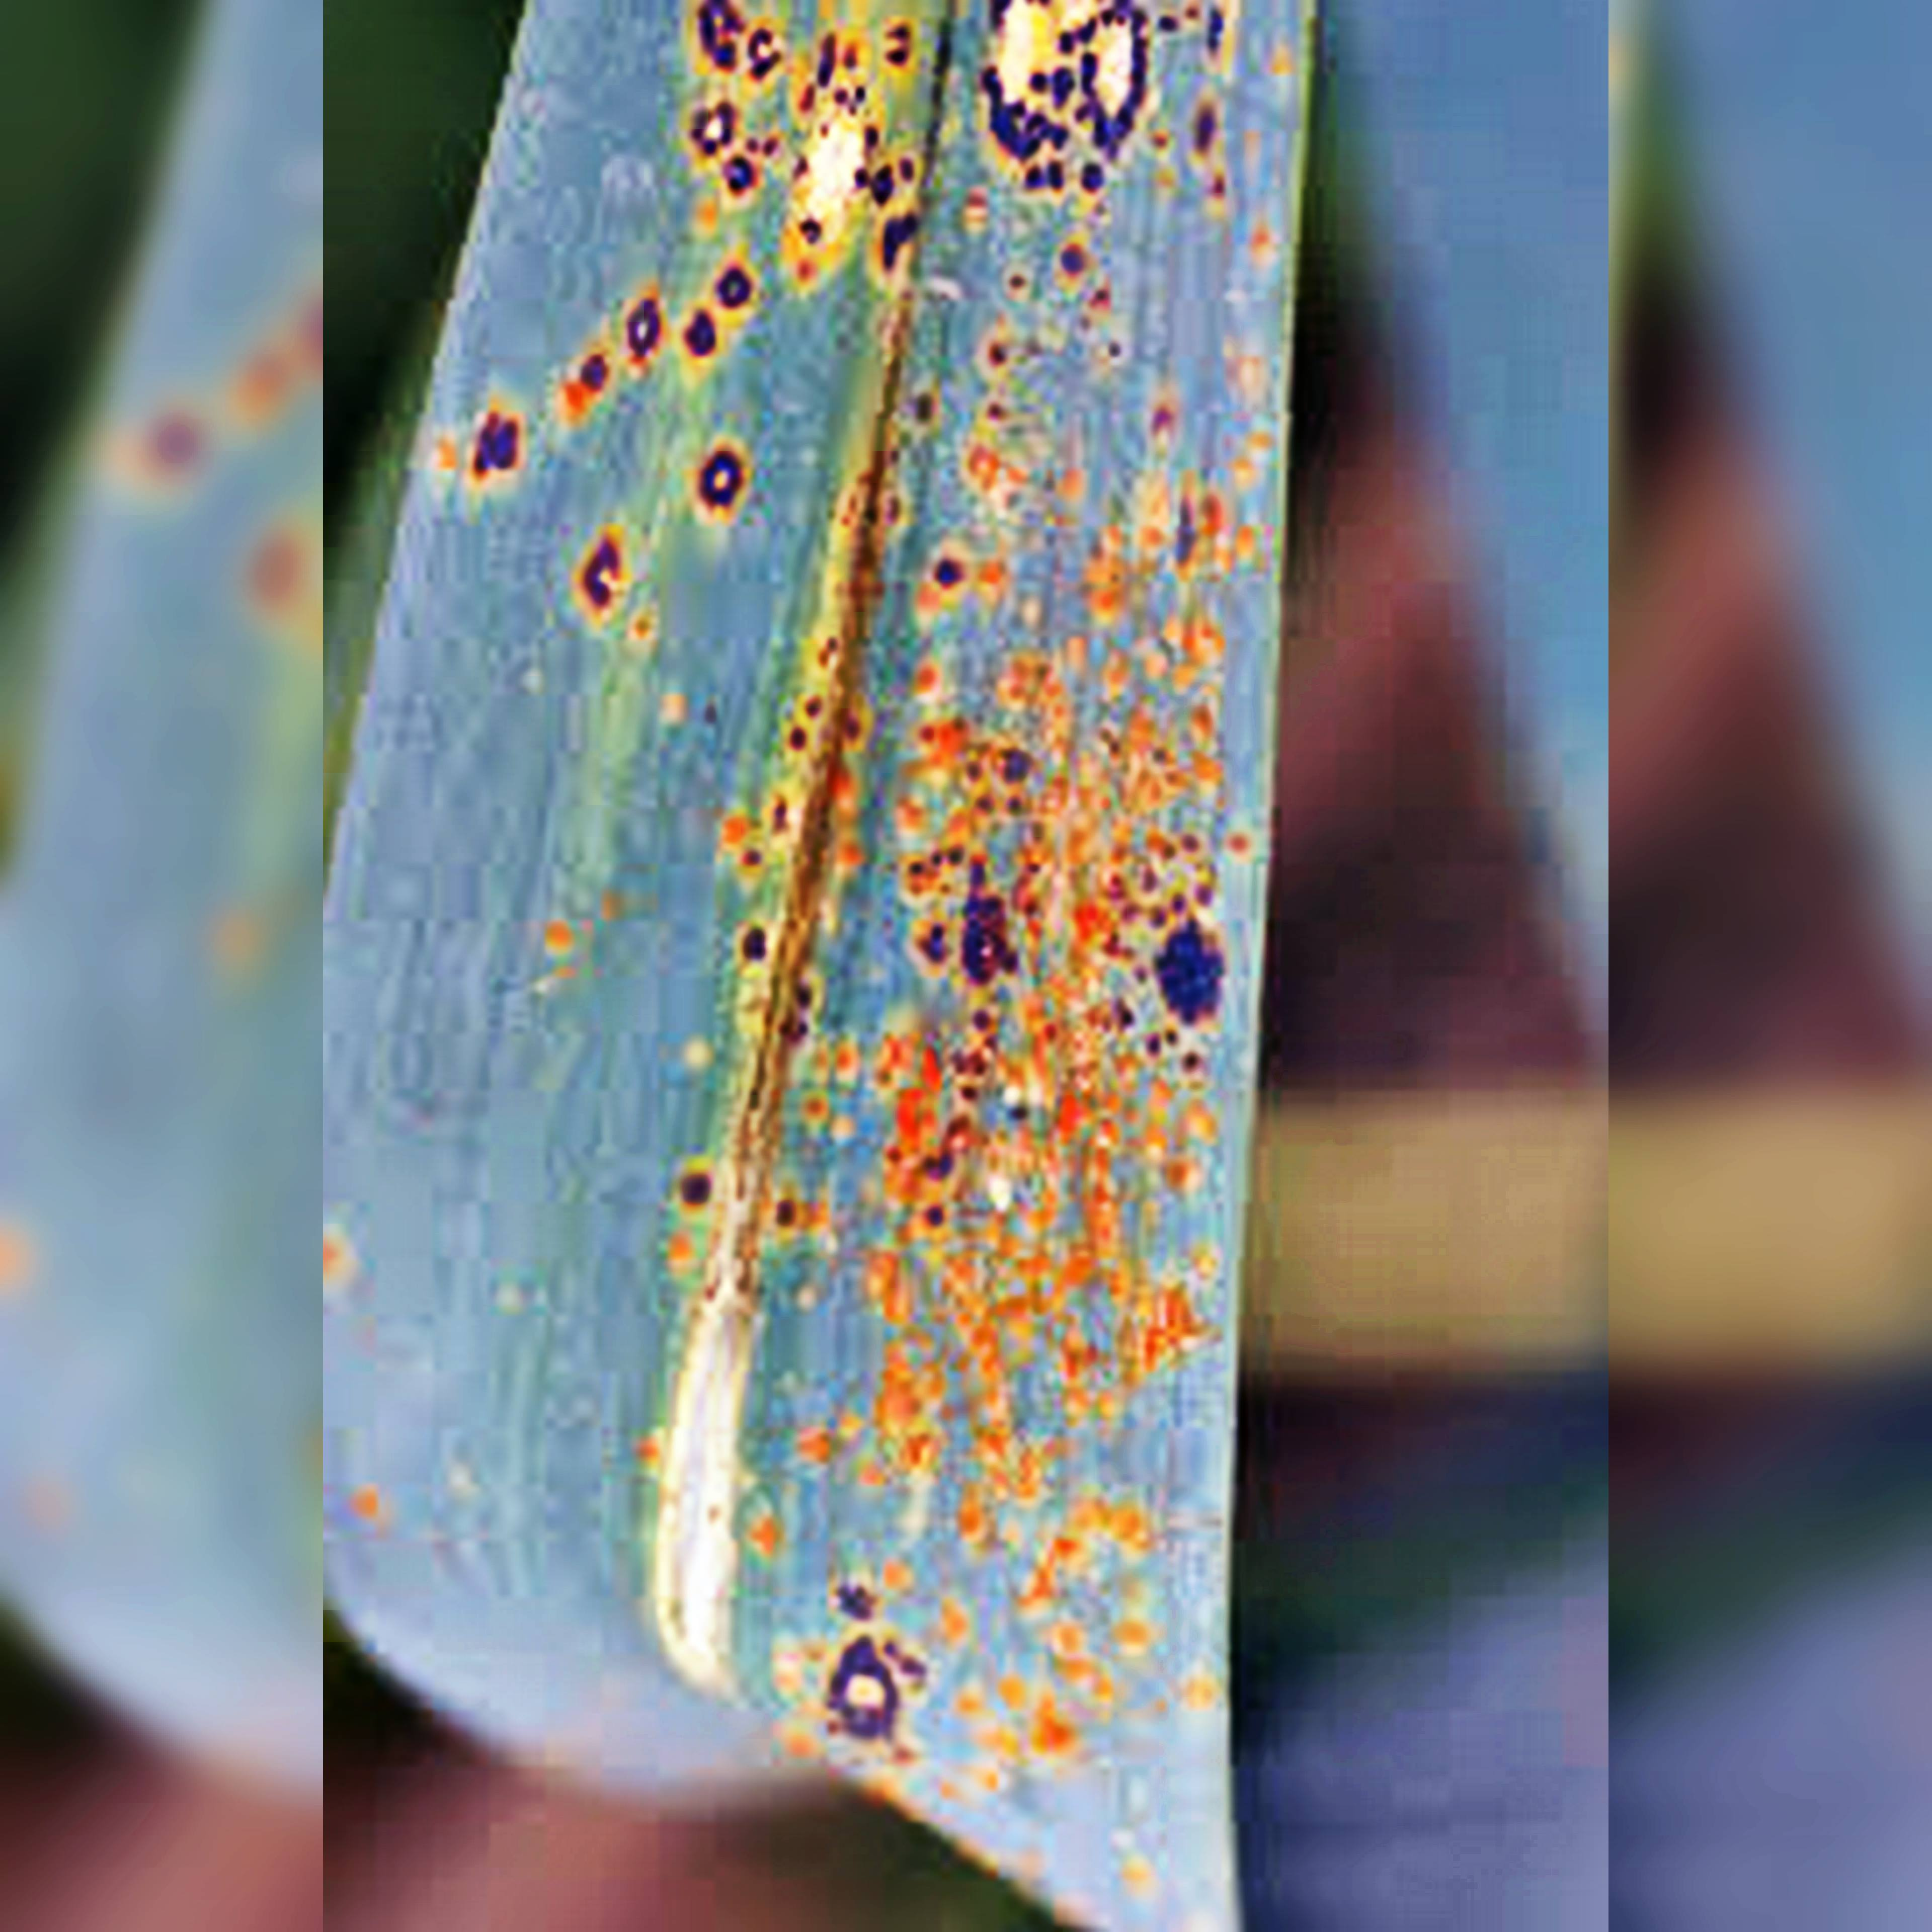Leaf Rust: (474, 115, 1343, 1706)
